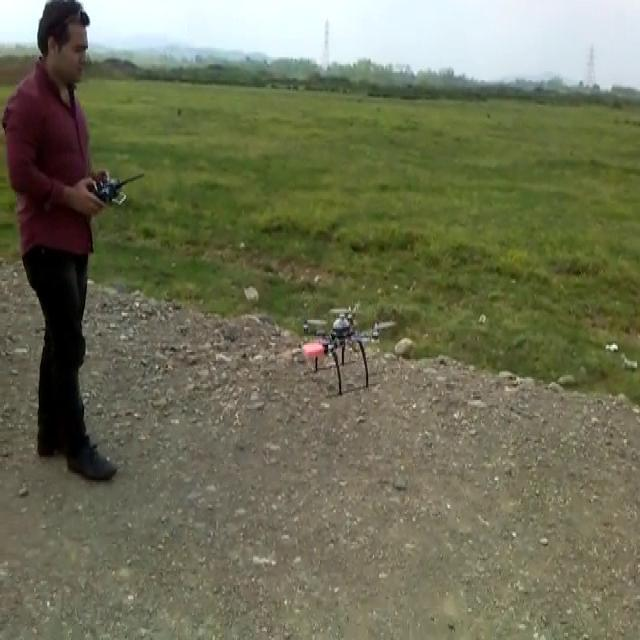drone: (296, 302, 395, 395)
